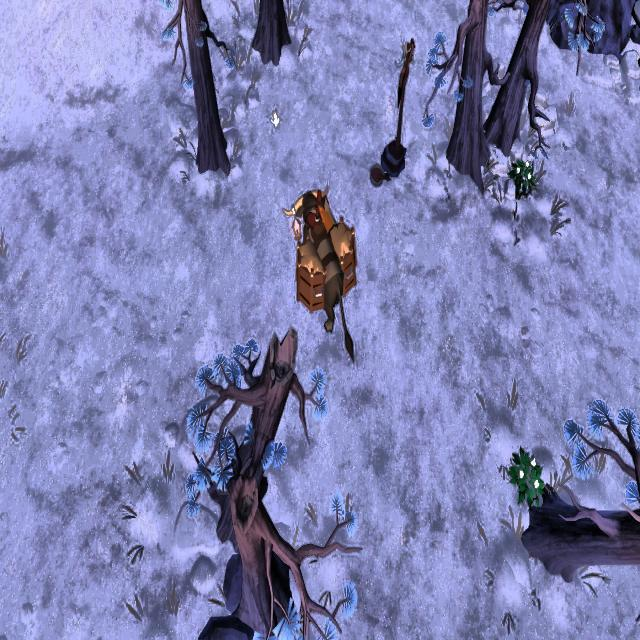fiber_t3: (507, 442, 545, 509), (508, 154, 534, 205)
